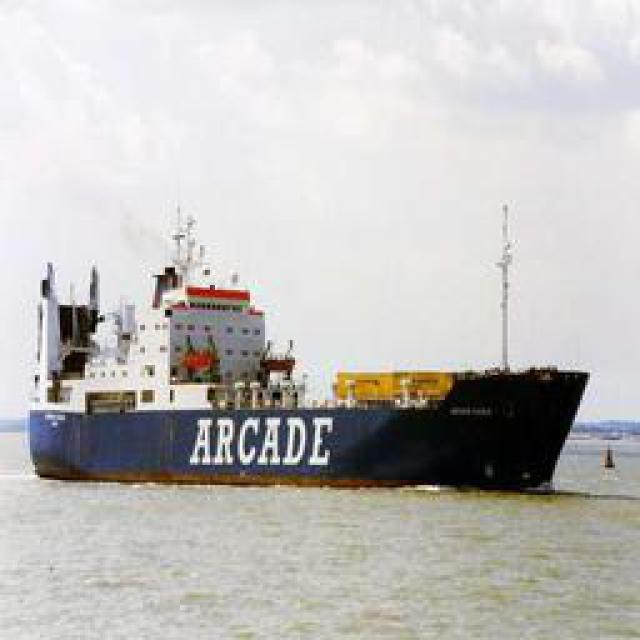Ship: (21, 207, 594, 480)
